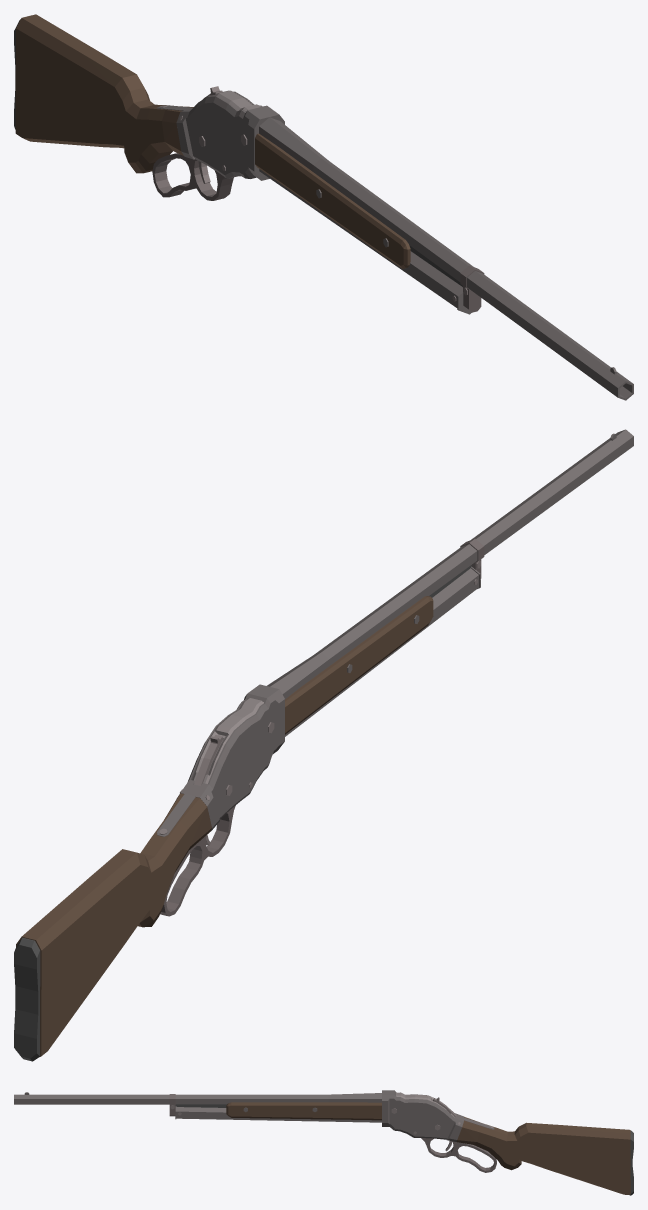
File: winchester.glb
3 views of the same model, one above another, from view 1: azimuth 30°, elevation 25°; view 2: azimuth 150°, elevation 25°; view 3: azimuth 270°, elevation 25° (orthographic). The views are drawn at different scales.
Parts seen in each view (by area): view 1: Cube.001; view 2: Cube.001; view 3: Cube.001.
Boxes of the visible parts, x1,y1,x2,y2 form: Cube.001: (14, 14, 633, 400); Cube.001: (14, 429, 633, 1061); Cube.001: (14, 1090, 633, 1195).
Bounding box in the file's own units: 0.0307 × 0.1828 × 1.01.
